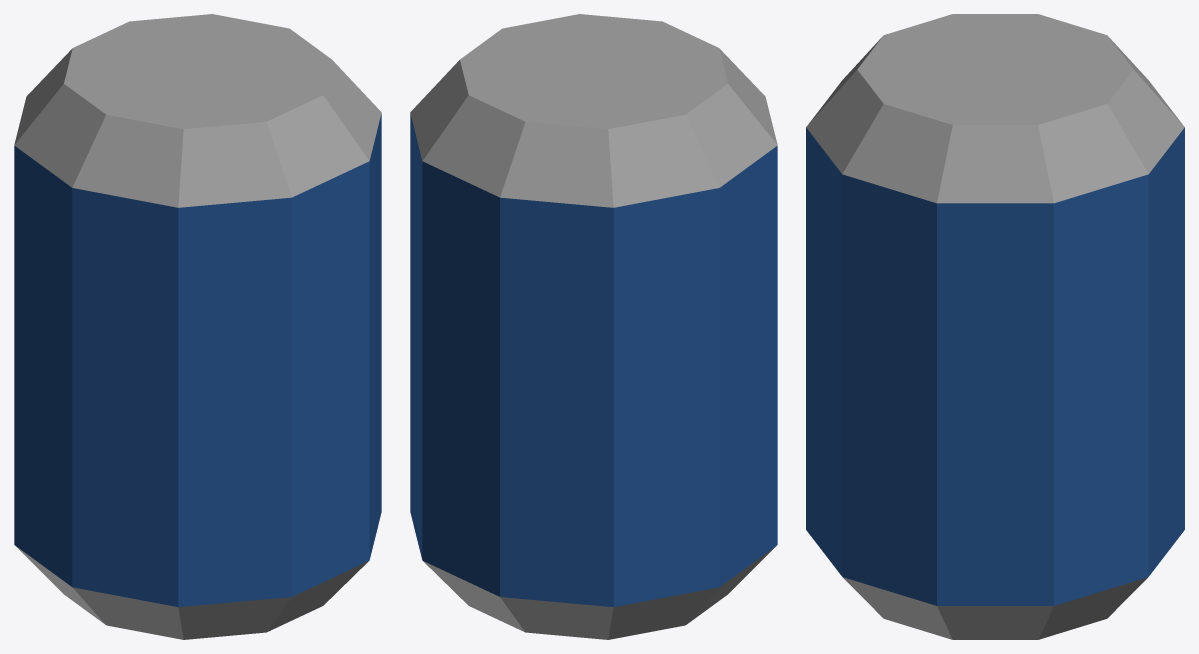
Rendered from can2.fbx.
3 renders of one model, left to right at view 1: azimuth 30°, elevation 25°; view 2: azimuth 150°, elevation 25°; view 3: azimuth 270°, elevation 25°, orthographic.
Parts seen in each view (by area): view 1: Cylinder; view 2: Cylinder; view 3: Cylinder.
Part boxes in pixels (x1,y1,x2,y2): Cylinder: (14,14,381,639); Cylinder: (410,14,777,639); Cylinder: (806,14,1184,639).
Size of the model in its own units: 19.02 by 30 by 20.
